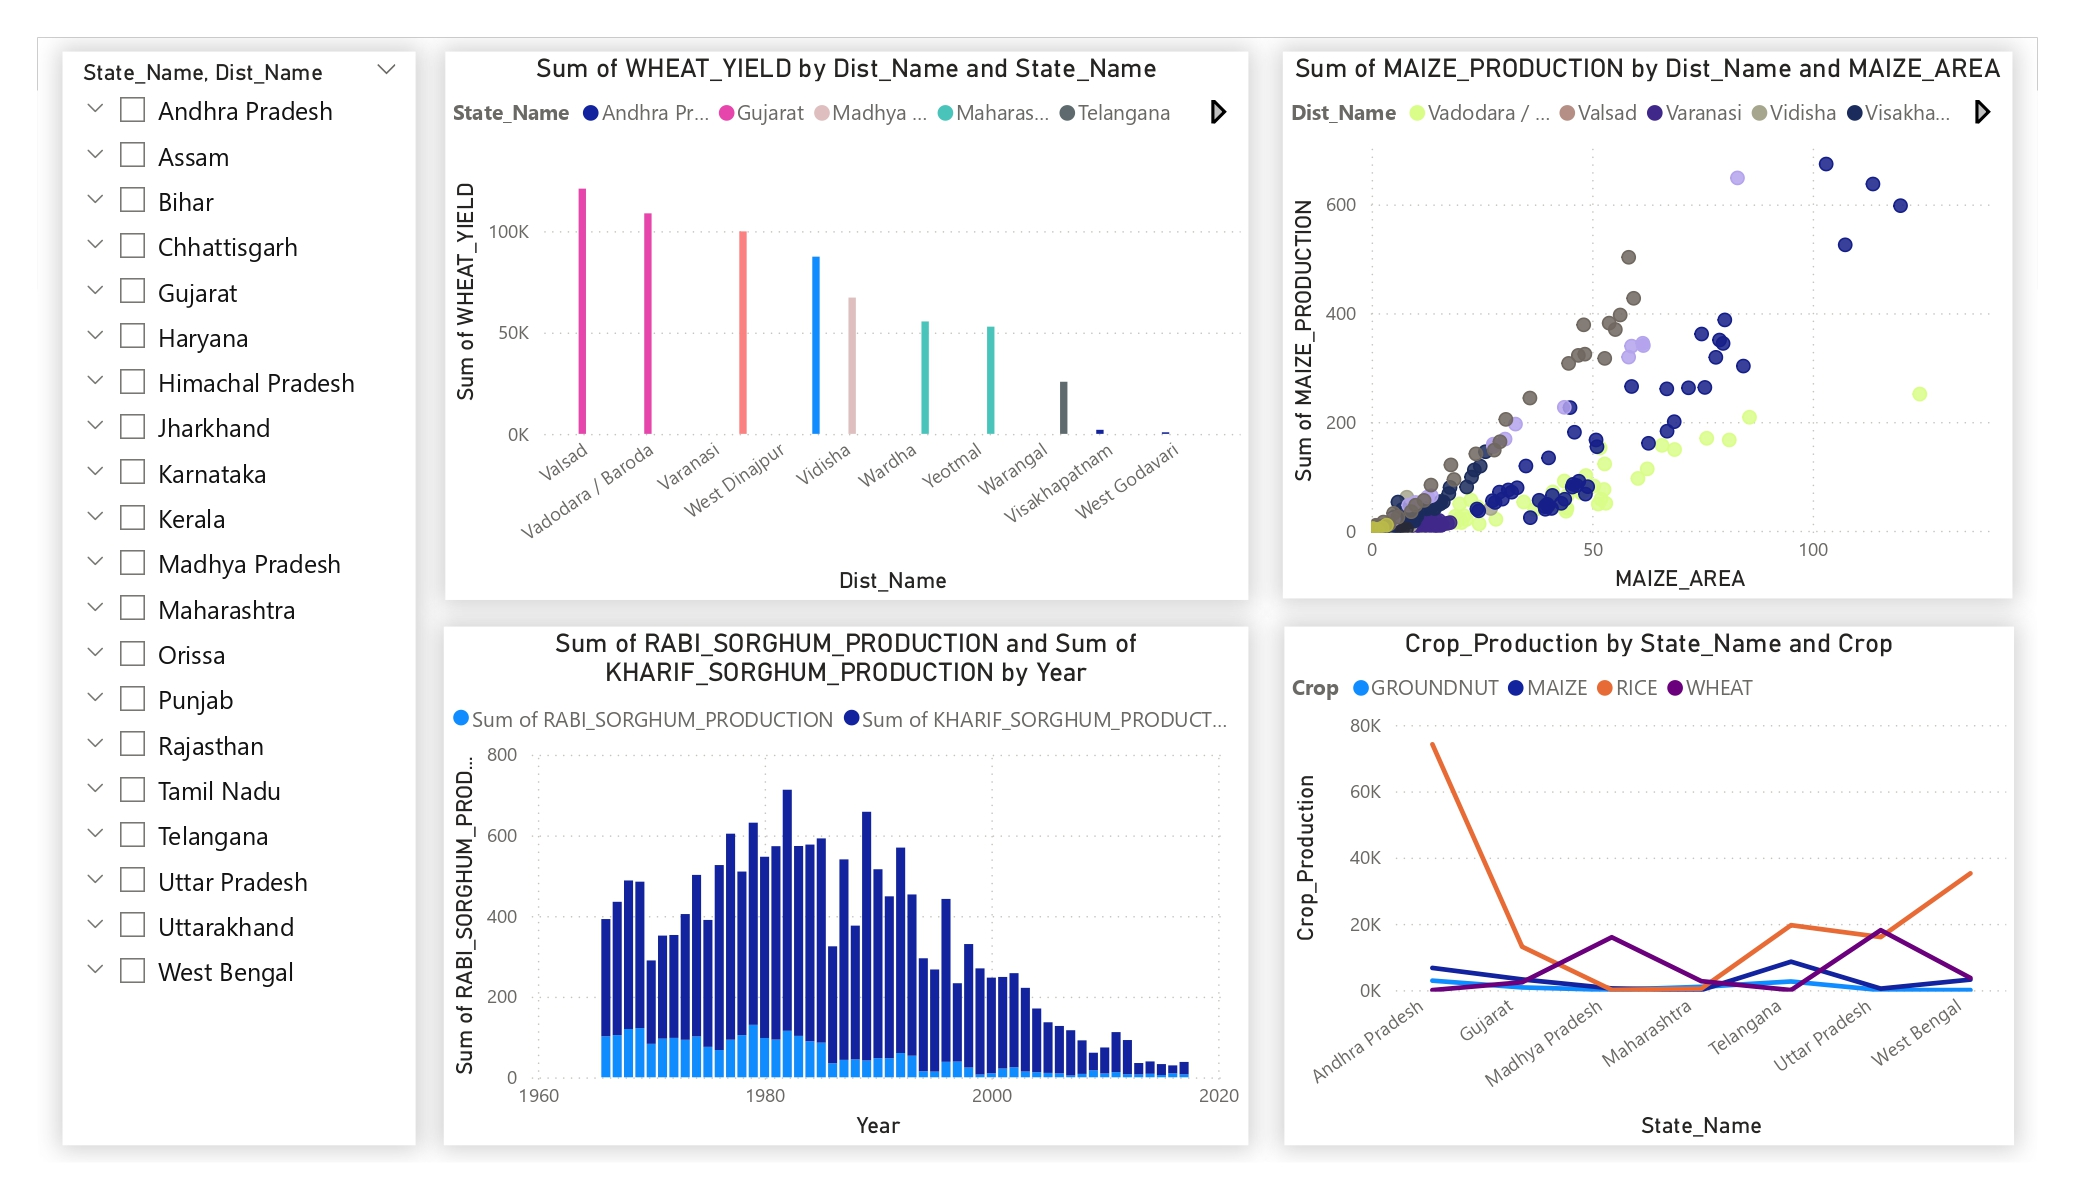

This screenshot's page, from the dashboard's own definition file:
{"tool":"powerbi","page":{"name":"Page 2","canvas":[1280,720],"ordinal":1},"visuals":[{"type":"clusteredColumnChart","fields":{"Category":["agri_data.Dist_Name"],"Y":["Sum(agri_data.WHEAT_YIELD)"],"Series":["agri_data.State_Name"]},"box":[260.7,8.8,514.2,351.6],"z":0},{"type":"slicer","fields":{"Values":["agri_data.State_Name","agri_data.Dist_Name"]},"box":[16.1,8.8,225.6,700.2],"z":1000},{"type":"scatterChart","fields":{"Y":["Sum(agri_data.MAIZE_PRODUCTION)"],"X":["agri_data.MAIZE_AREA"],"Series":["agri_data.Dist_Name"]},"box":[796.9,8.8,467.3,350.1],"z":2000},{"type":"columnChart","fields":{"Category":["agri_data.Year"],"Y":["Sum(agri_data.RABI_SORGHUM_PRODUCTION)","Sum(agri_data.KHARIF_SORGHUM_PRODUCTION)"]},"box":[260.4,377.2,514.4,332.3],"z":3000},{"type":"lineChart","fields":{"Category":["agri_data.State_Name"],"Y":["CropTable.Crop_Production"],"Series":["CropTable.Crop"]},"box":[797.9,377.2,466.9,332.3],"z":4000}]}

Visuals, with their boxes on the page's 1280x720 design canvas (x1, y1, x2, y2). These are canvas units, not pixel positions in the 2075x1200 screenshot, which may show the page scaled, cropped or inside an application window:
clusteredColumnChart - agri_data.Dist_Name x Sum(agri_data.WHEAT_YIELD): bbox=[261, 9, 775, 360]
slicer - agri_data.State_Name x agri_data.Dist_Name: bbox=[16, 9, 242, 709]
scatterChart - Sum(agri_data.MAIZE_PRODUCTION) x agri_data.MAIZE_AREA: bbox=[797, 9, 1264, 359]
columnChart - agri_data.Year x Sum(agri_data.RABI_SORGHUM_PRODUCTION): bbox=[260, 377, 775, 710]
lineChart - agri_data.State_Name x CropTable.Crop_Production: bbox=[798, 377, 1265, 710]
